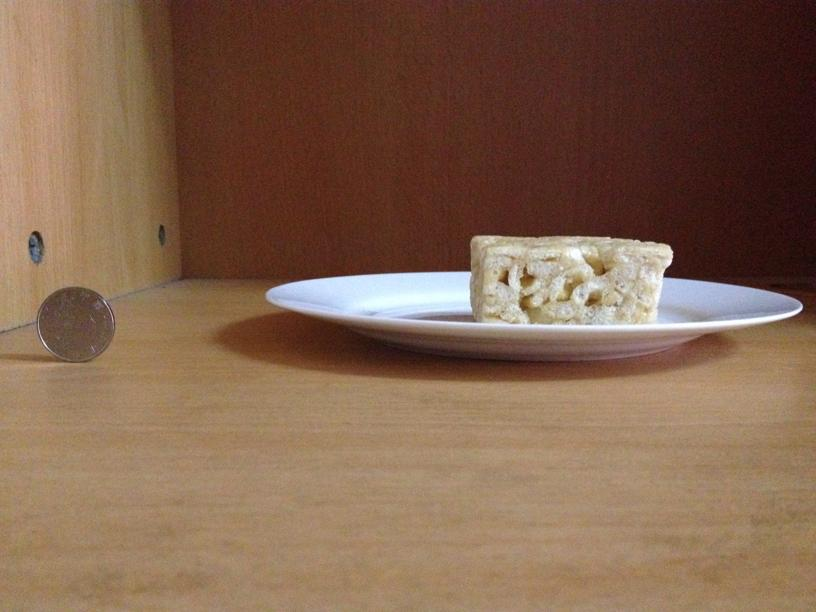coin: (35, 288, 114, 360)
sachima: (466, 232, 669, 327)
